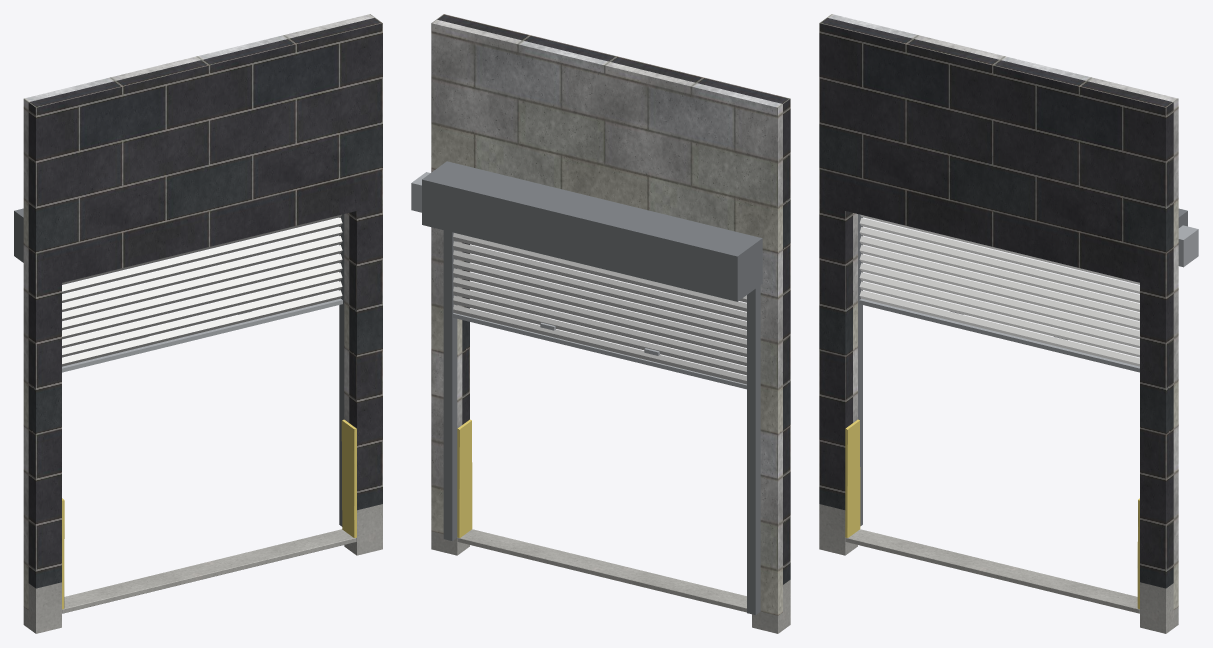
File: k_bay_half.glb
3 renders of one model, left to right at view 1: azimuth 30°, elevation 25°; view 2: azimuth 150°, elevation 25°; view 3: azimuth 330°, elevation 25°, orthographic.
Parts seen in each view (by area): view 1: k_bay_half_block_d, k_bay_half_paint_w, k_bay_half_concrete, k_bay_half_block_l, k_bay_half_paint_y, k_bay_half_steel, k_bay_half_steel_d; view 2: k_bay_half_block_l, k_bay_half_steel_d, k_bay_half_paint_w, k_bay_half_block_d, k_bay_half_concrete, k_bay_half_steel, k_bay_half_paint_y; view 3: k_bay_half_block_d, k_bay_half_paint_w, k_bay_half_concrete, k_bay_half_block_l, k_bay_half_steel, k_bay_half_paint_y, k_bay_half_steel_d.
Boxes of the visible parts, x1=… form: k_bay_half_block_d: x1=28, y1=17, x2=382, y2=588; k_bay_half_paint_w: x1=62, y1=214, x2=342, y2=366; k_bay_half_concrete: x1=23, y1=504, x2=382, y2=633; k_bay_half_block_l: x1=23, y1=14, x2=374, y2=609; k_bay_half_paint_y: x1=62, y1=419, x2=356, y2=609; k_bay_half_steel: x1=62, y1=298, x2=342, y2=372; k_bay_half_steel_d: x1=14, y1=208, x2=344, y2=526; k_bay_half_block_l: x1=431, y1=19, x2=782, y2=615; k_bay_half_steel_d: x1=422, y1=161, x2=762, y2=615; k_bay_half_paint_w: x1=453, y1=233, x2=746, y2=384; k_bay_half_block_d: x1=436, y1=14, x2=790, y2=584; k_bay_half_concrete: x1=431, y1=529, x2=790, y2=633; k_bay_half_steel: x1=411, y1=172, x2=746, y2=389; k_bay_half_paint_y: x1=457, y1=419, x2=472, y2=537; k_bay_half_block_d: x1=819, y1=17, x2=1173, y2=588; k_bay_half_paint_w: x1=859, y1=214, x2=1139, y2=366; k_bay_half_concrete: x1=819, y1=504, x2=1178, y2=633; k_bay_half_block_l: x1=827, y1=14, x2=1178, y2=609; k_bay_half_steel: x1=859, y1=225, x2=1198, y2=372; k_bay_half_paint_y: x1=845, y1=419, x2=1139, y2=609; k_bay_half_steel_d: x1=858, y1=208, x2=1187, y2=526.
Size of the model in its own units: 4 by 5.8 by 0.75.
Materials: 7 (3 with a texture image).
